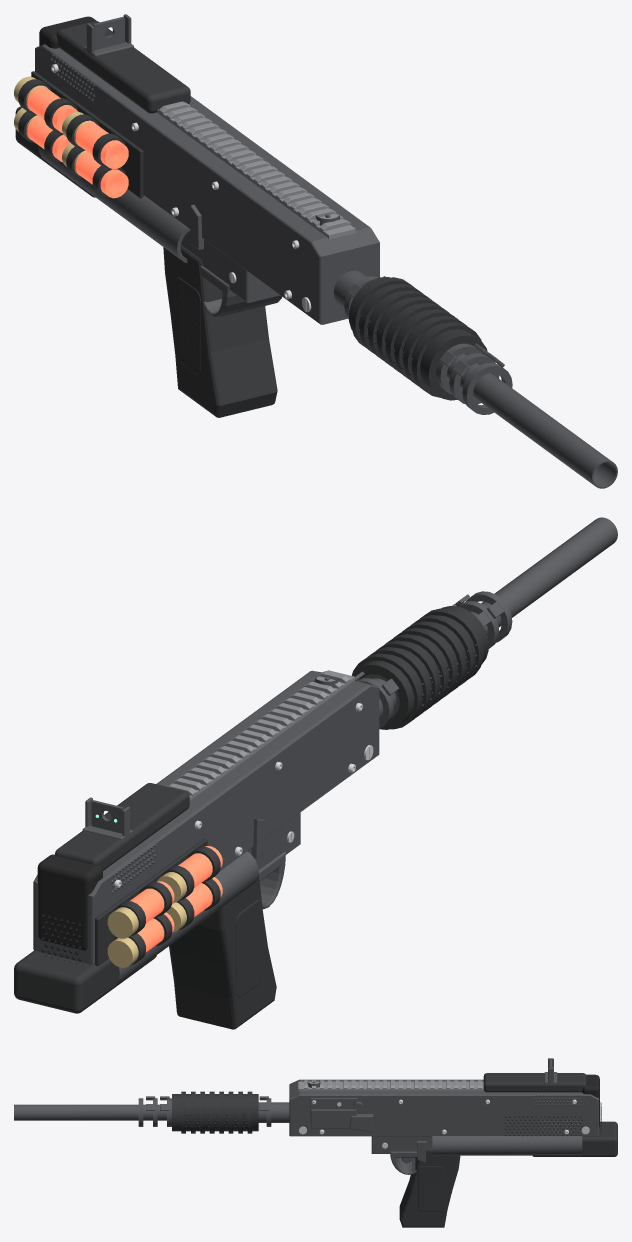
The model's file is ksg.glb.
3 renders of one model, top to bottom at view 1: azimuth 30°, elevation 25°; view 2: azimuth 150°, elevation 25°; view 3: azimuth 270°, elevation 25°, orthographic. The views are drawn at different scales.
Parts seen in each view (by area): view 1: bullpup-shotgun, pump; view 2: bullpup-shotgun, pump; view 3: bullpup-shotgun, pump.
Part boxes in pixels (x1,y1,x2,y2): bullpup-shotgun: (14, 14, 617, 488); pump: (349, 277, 487, 400); bullpup-shotgun: (14, 517, 617, 1029); pump: (351, 606, 488, 729); bullpup-shotgun: (14, 1058, 617, 1227); pump: (172, 1091, 258, 1133).
Size of the model in its own units: 0.0816 by 0.2199 by 0.765.
